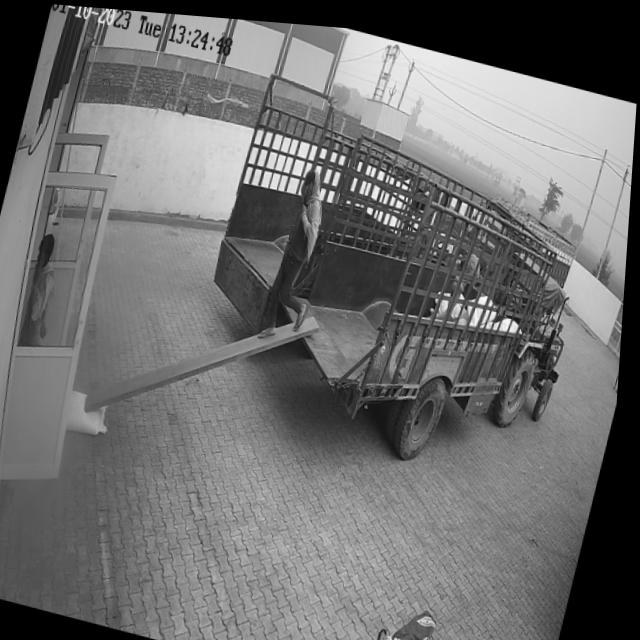sack: (67, 387, 119, 438)
